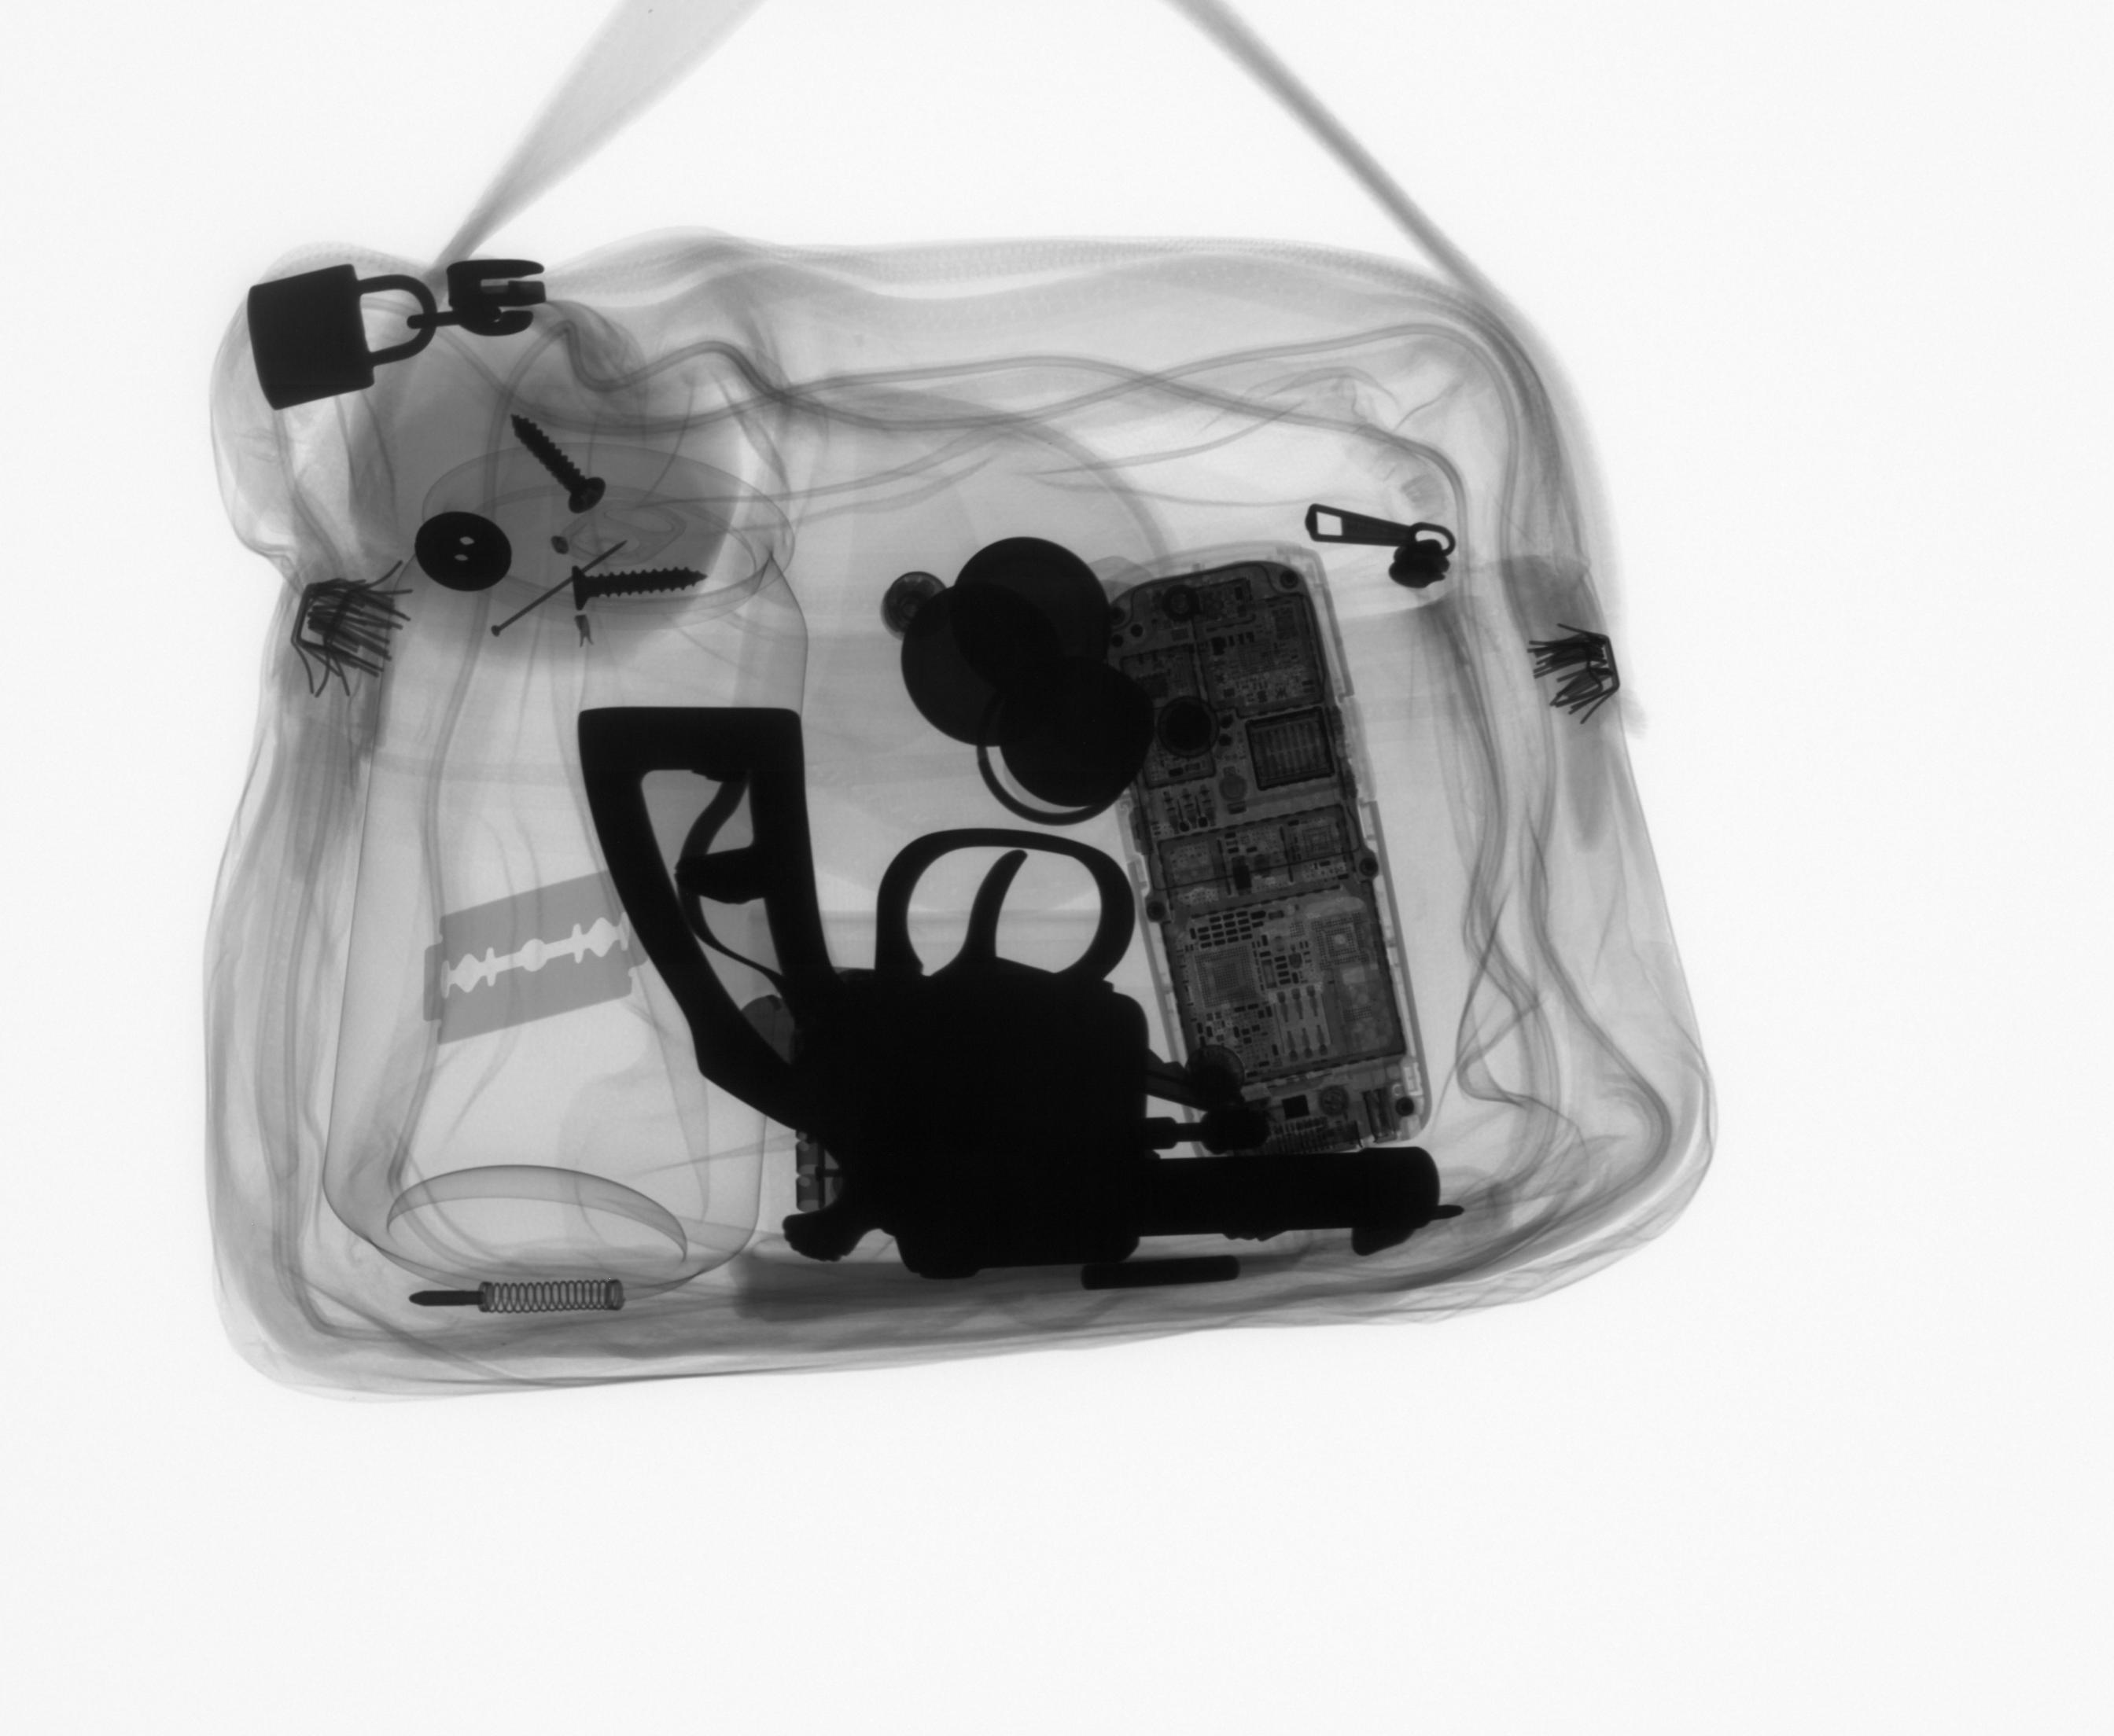Handgun: (567, 692, 1456, 1289)
RazorBlade: (411, 858, 661, 1054)
